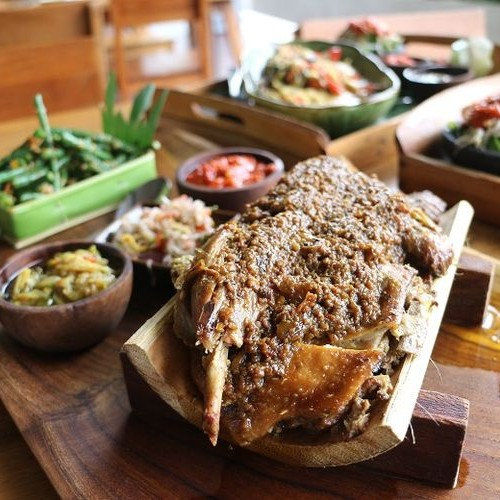bebek timbungan: (168, 133, 426, 431)
